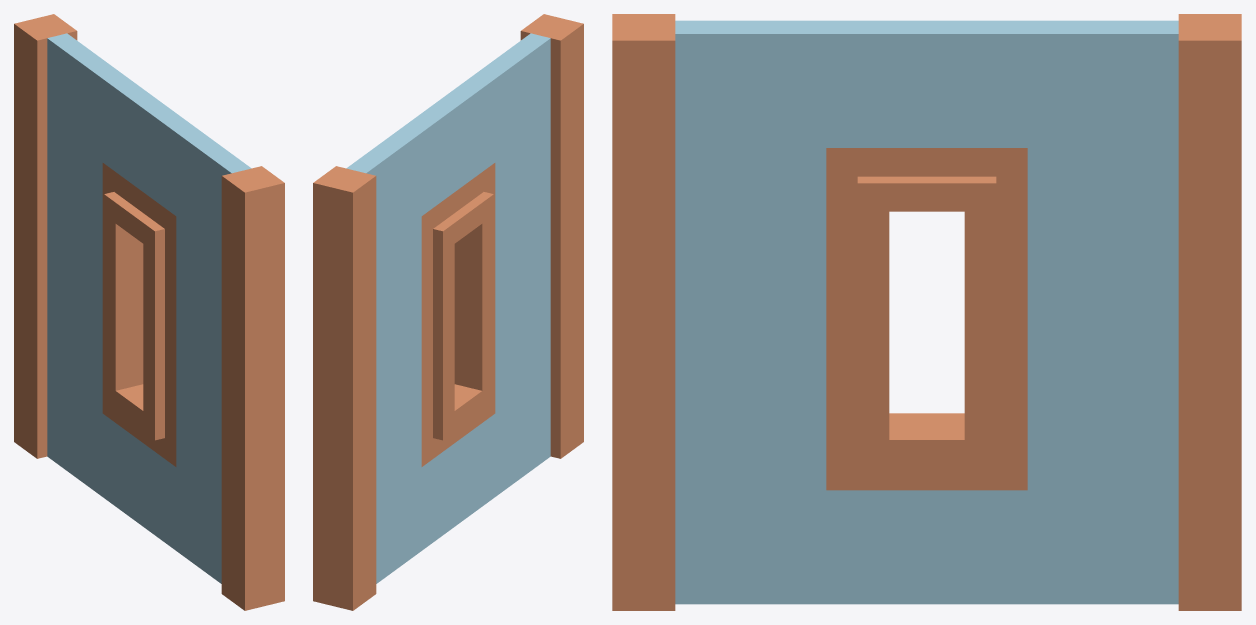
The model's file is wallWindowSmall.fbx.
The picture shows the model from 3 angles, left to right: view 1: azimuth 30°, elevation 25°; view 2: azimuth 150°, elevation 25°; view 3: azimuth 270°, elevation 25°; orthographic projection. The views are drawn at different scales.
Visible parts, largest first — view 1: wallWindowSmall; view 2: wallWindowSmall; view 3: wallWindowSmall.
Part boxes in pixels (left/top/right/bottom): wallWindowSmall: left=14, top=14, right=284, bottom=610; wallWindowSmall: left=313, top=14, right=583, bottom=610; wallWindowSmall: left=612, top=14, right=1241, bottom=610.
Bounding box in the file's own units: 1 × 10 × 10.
